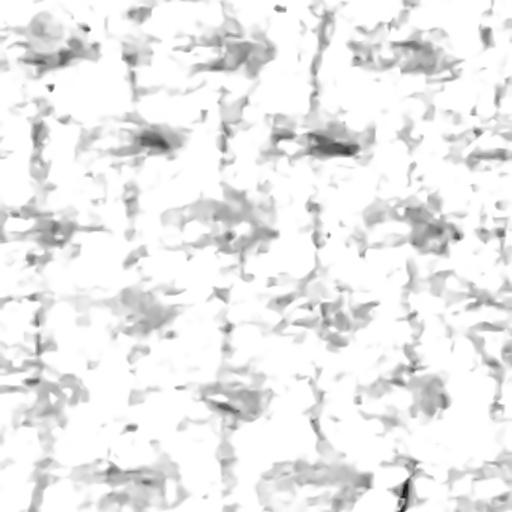egg: (396, 474, 413, 511)
